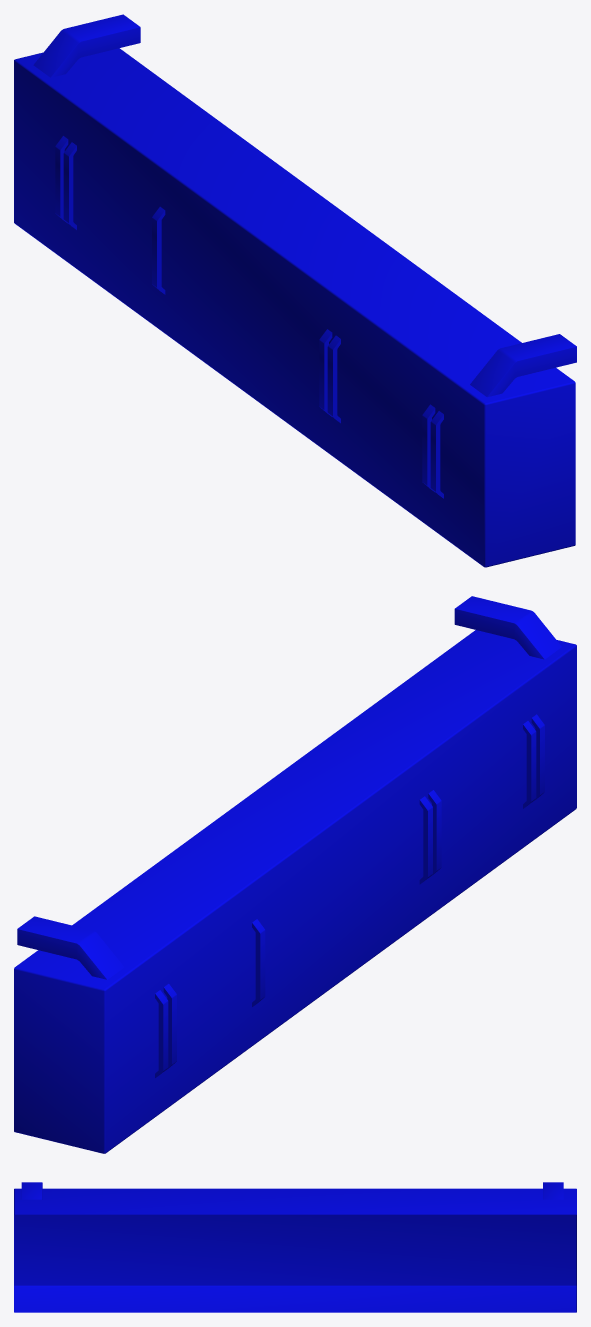
File: Cabinet_Overhead_25.FBX
The picture shows the model from 3 angles, top to bottom: view 1: azimuth 30°, elevation 25°; view 2: azimuth 150°, elevation 25°; view 3: azimuth 270°, elevation 25°; orthographic projection. The views are drawn at different scales.
Parts seen in each view (by area): view 1: Cabinet_Overhead_2.5; view 2: Cabinet_Overhead_2.5; view 3: Cabinet_Overhead_2.5.
Part boxes in pixels (x1,y1,x2,y2): Cabinet_Overhead_2.5: [14, 14, 576, 567]; Cabinet_Overhead_2.5: [14, 596, 576, 1153]; Cabinet_Overhead_2.5: [14, 1182, 576, 1312].
Size of the model in its own units: 12.88 by 22.25 by 98.43.
